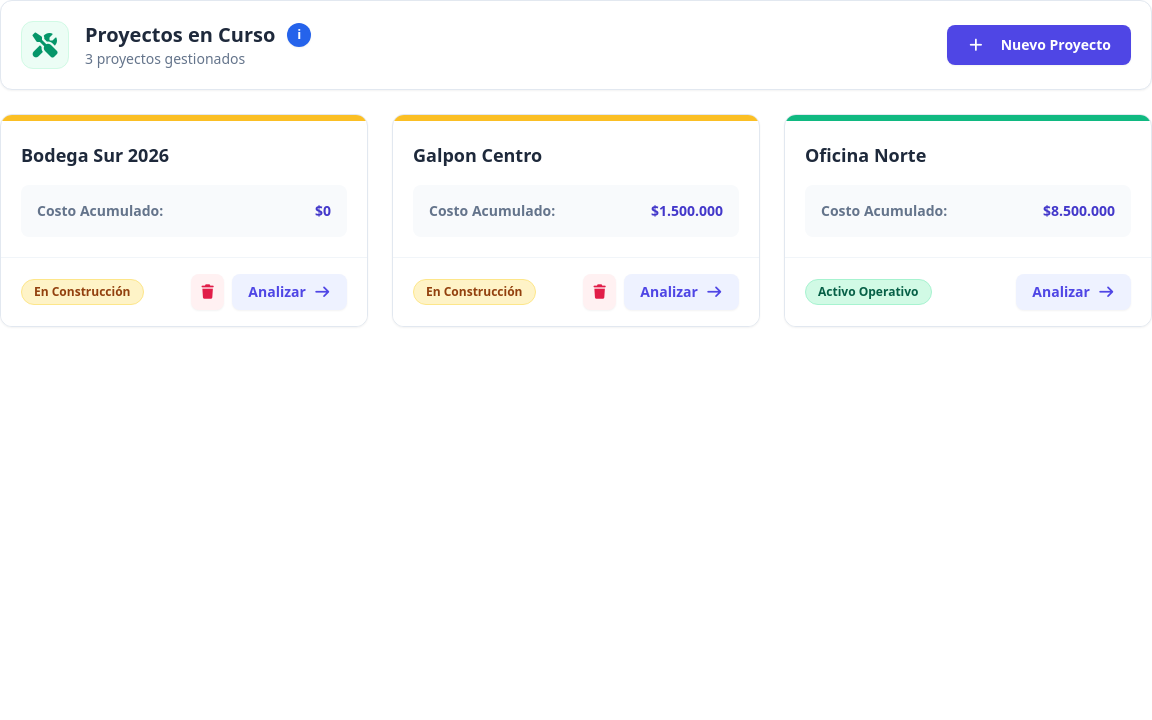
Test: GestionProyectosActivos - crear proyecto (smoke) › abre el modal de creacion al click en "Nuevo Proyecto"
Check: the heading "Bodega Sur 2026" is shown, box [21, 143, 169, 167]
What coordinates should you click on to do the following:
click the button "Nuevo Proyecto"
I would click on:
 (1039, 45)
Its box is [947, 25, 1131, 65].
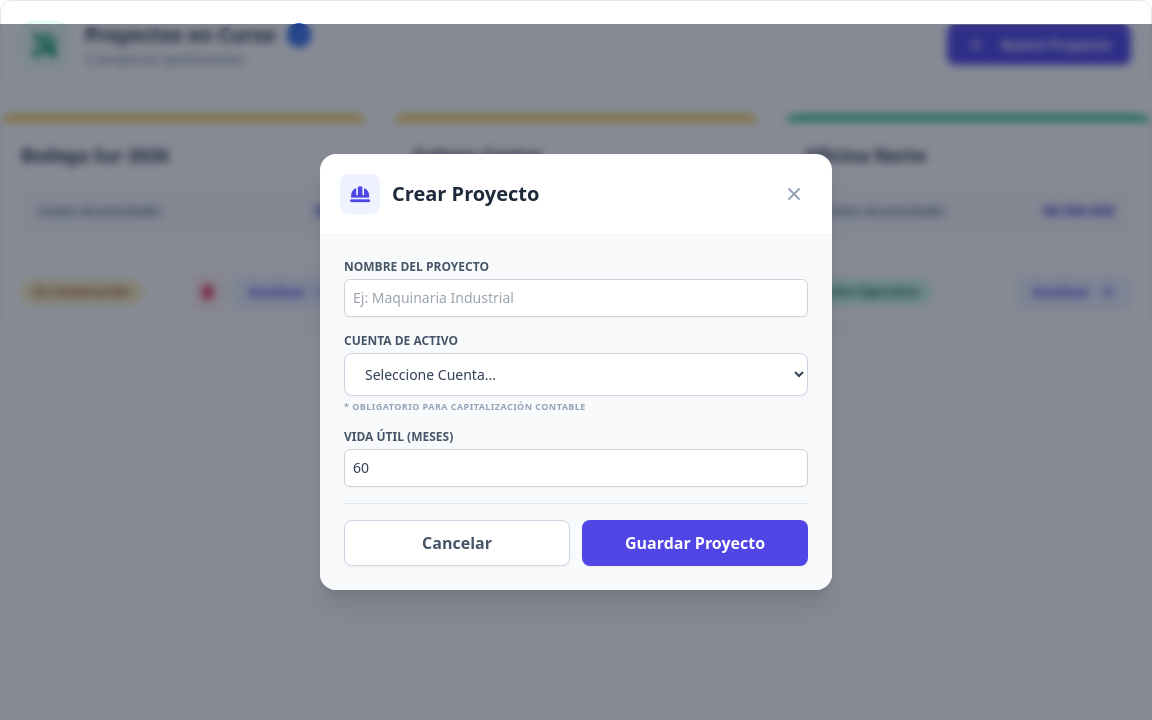
Check: the heading "Crear Proyecto" is shown, box [340, 174, 539, 214]
